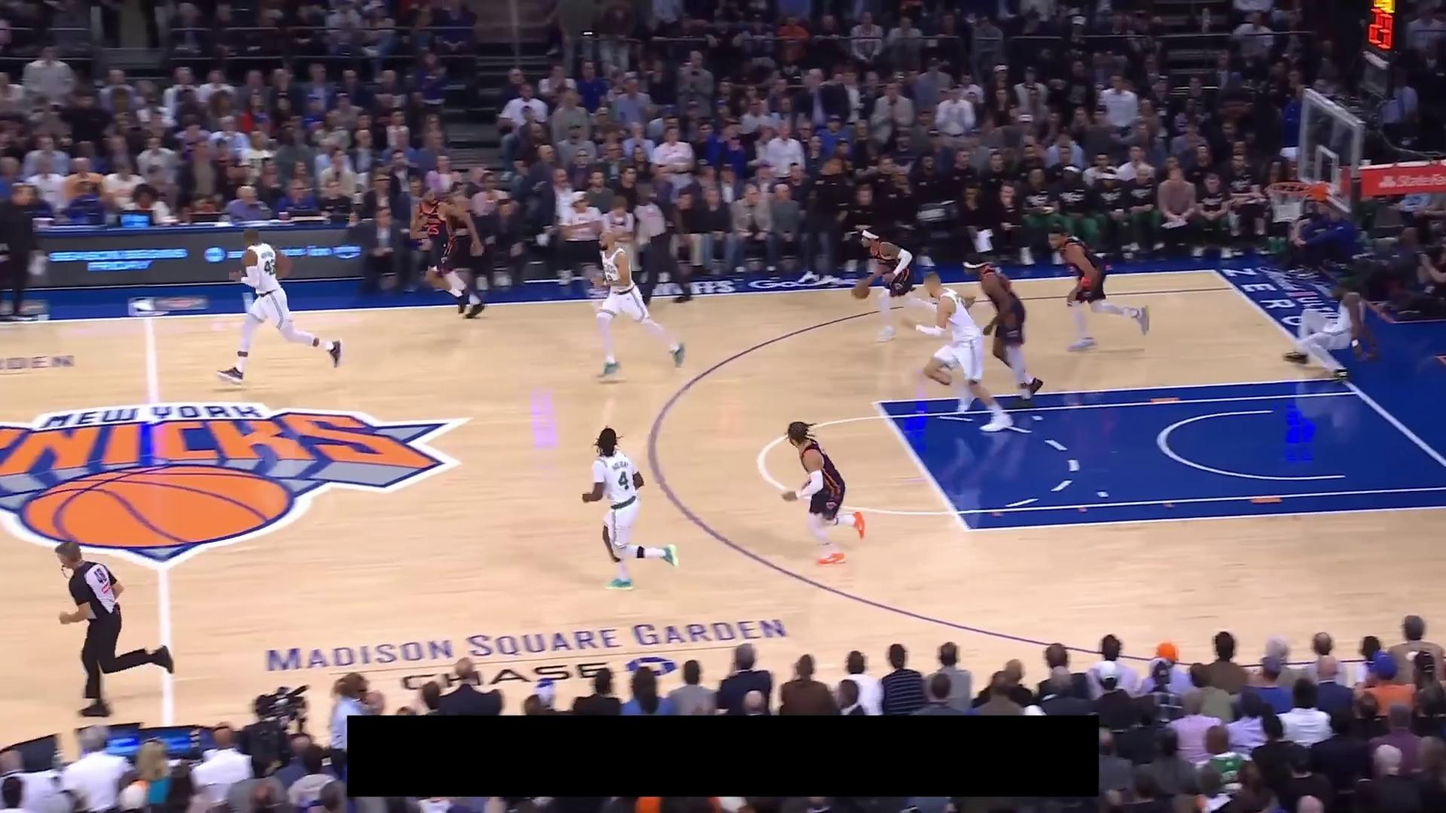ball: (852, 280, 871, 299)
number: (617, 470, 631, 491), (264, 258, 276, 276), (426, 222, 439, 236)
player: (216, 225, 345, 386), (914, 269, 1017, 431), (581, 424, 678, 592), (588, 226, 688, 383), (1048, 220, 1149, 352), (779, 420, 868, 566), (966, 250, 1045, 405), (409, 187, 488, 319), (1282, 280, 1378, 383)
player-in-possession: (850, 226, 938, 344)
referee: (56, 538, 177, 723), (621, 178, 697, 313)
rim: (1267, 180, 1312, 196)
